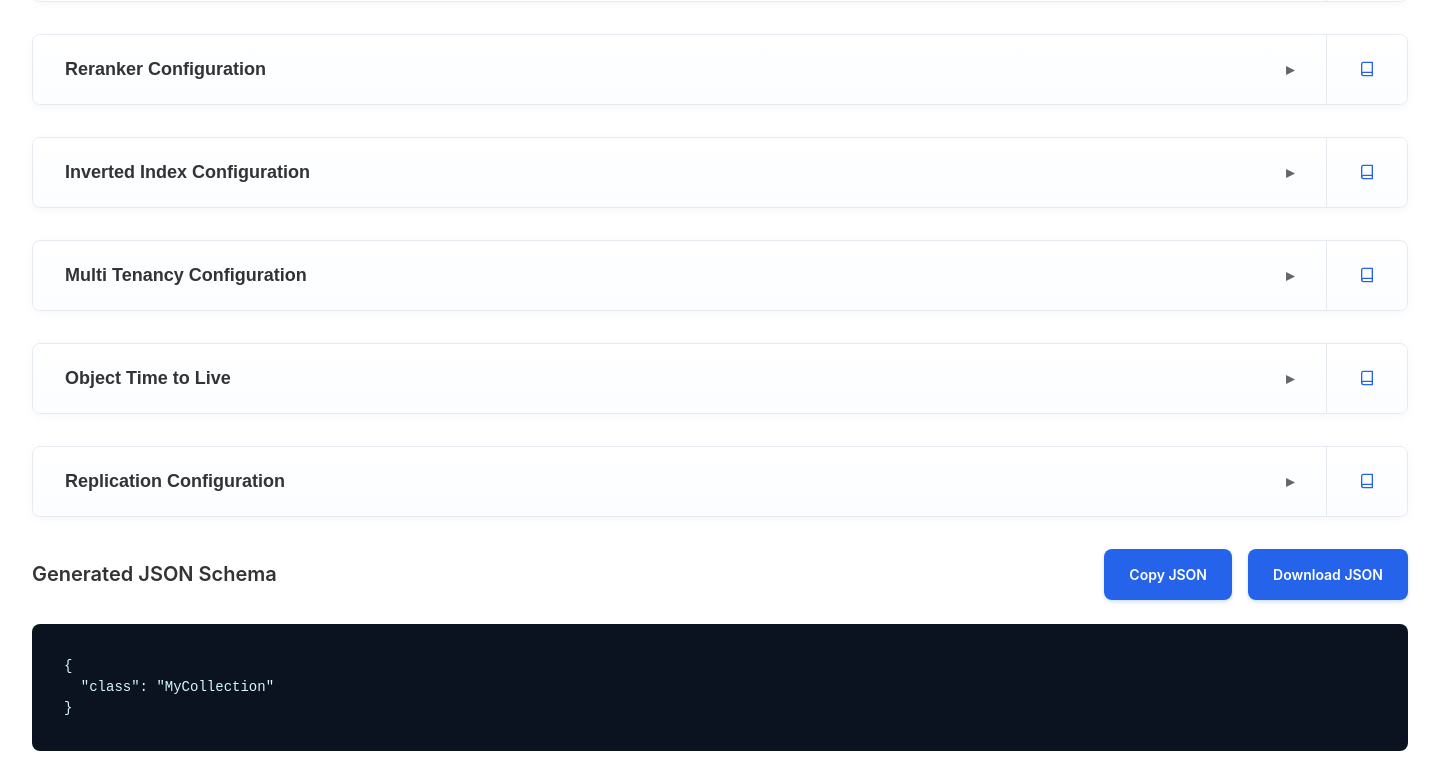
Test: Collection — Object TTL JSON output › omits objectTtlConfig when dateProperty mode but no property selected
(page scrolled)
Expected: the text "{ \"class\": \"MyCollection\" }" is shown, [32,624,1408,751]
Click the button "Object Time to Live ▸": (148, 378) [33,344,1326,413]
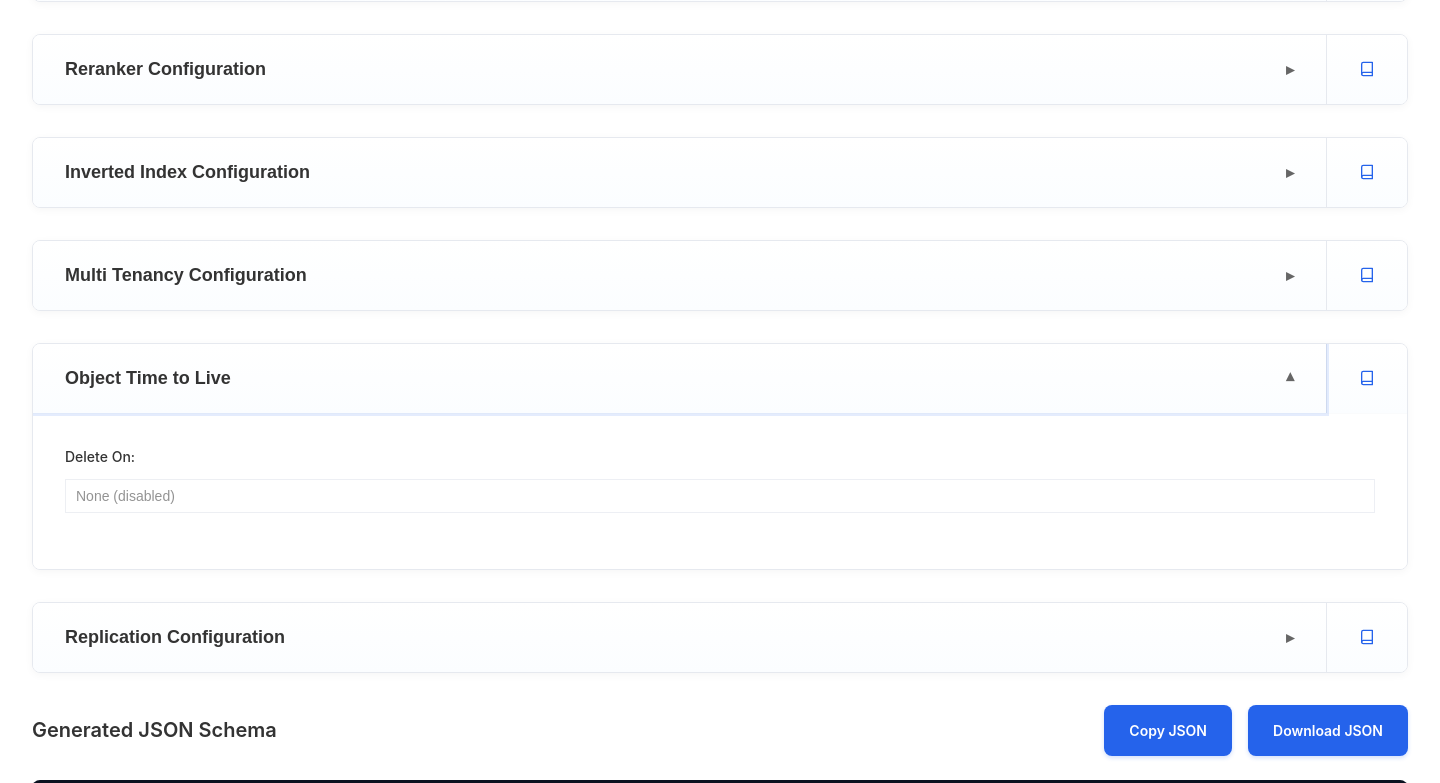
Expected: the text "Delete On:" is shown, [65,448,135,465]
Select "Delete by Date Property" in the dropdown: (720, 496) [65,479,1375,513]
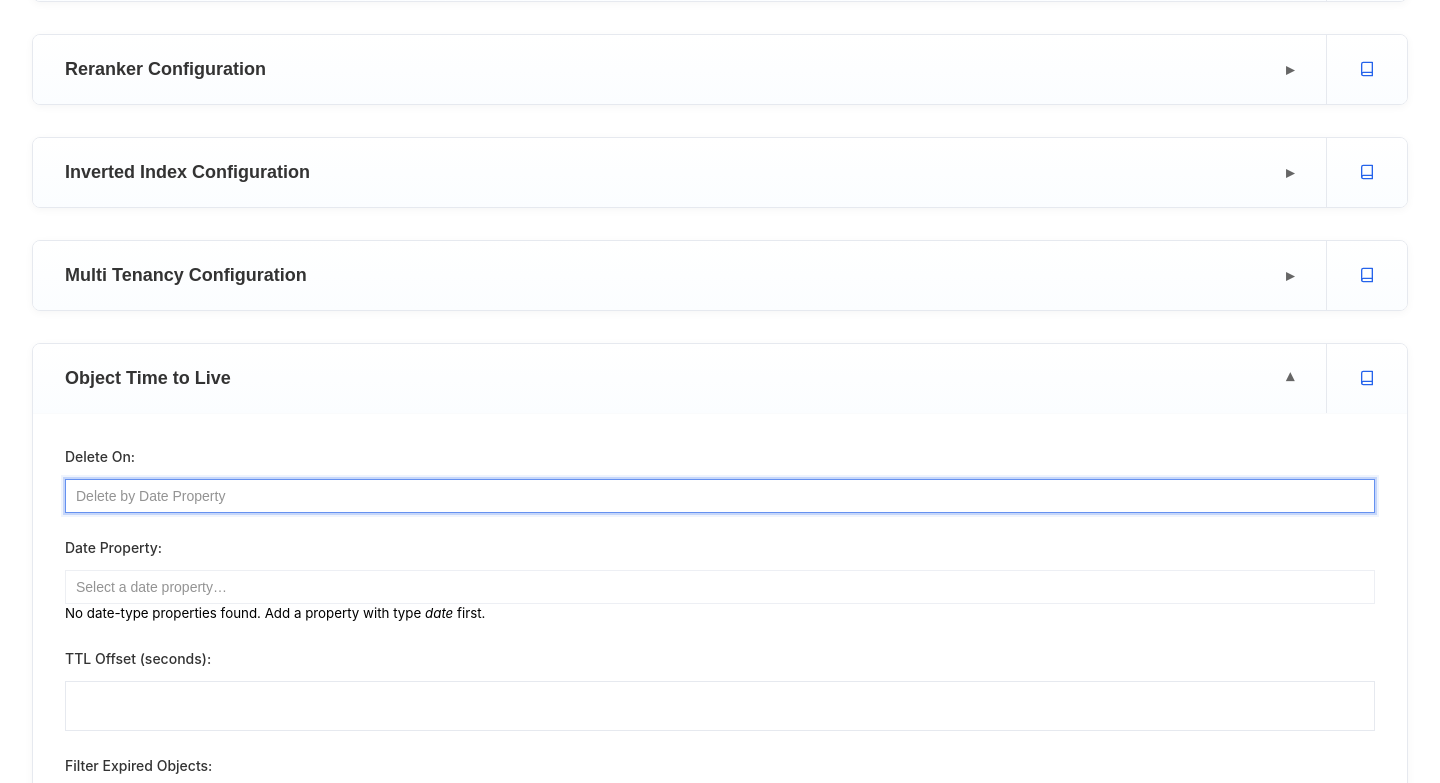
Expected: the text "Date Property:" is shown, [65,539,162,556]
